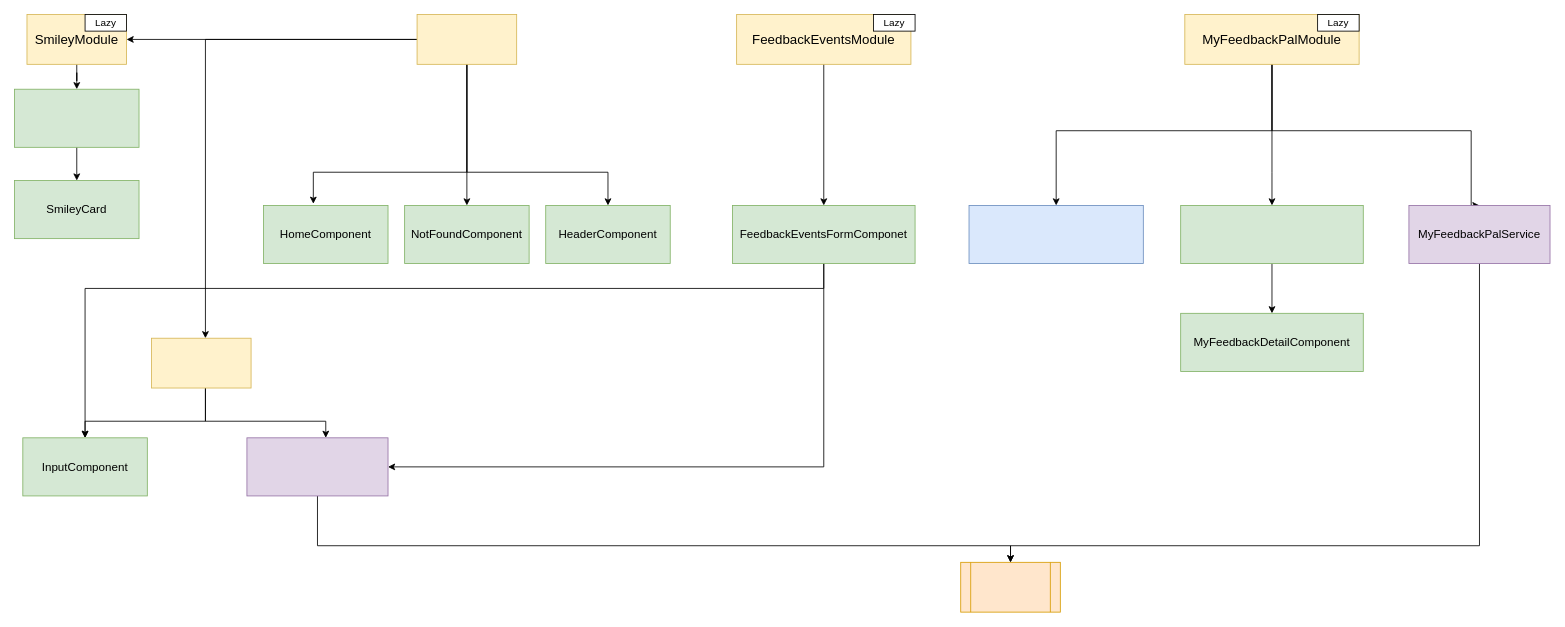
Some shapes in this 1565 by 627 pixel diagram are drawn without their labels. The shapes that lost their labels are listed below. From the top down, each one's centre as x and y in pixels, then its label:
At (466,39): "AppModule".
At (76,117): "SmileyHome".
At (1055,234): "GetFeedbackEventsFilterDto".
At (1271,234): "MyFeedbackPalHomeComponent".
At (201,362): "SharedModule".
At (317,466): "FeedbackEventsService".
At (1010,586): "FeedbackPal API".
